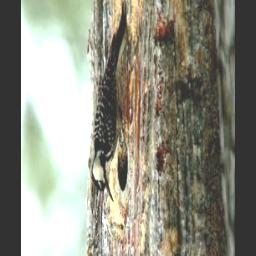Woodpecker: (86, 0, 136, 209)
